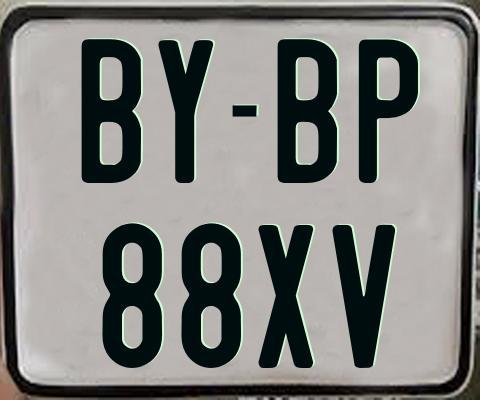8: (102, 220, 166, 366), (179, 222, 241, 371)
B: (276, 36, 340, 181), (81, 38, 143, 187)
P: (358, 39, 422, 185)
V: (332, 222, 401, 370)
X: (255, 225, 313, 371)
Y: (158, 37, 213, 183)
